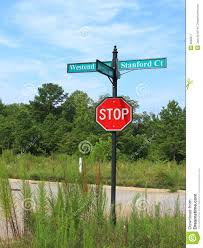stop: (94, 93, 135, 134)
